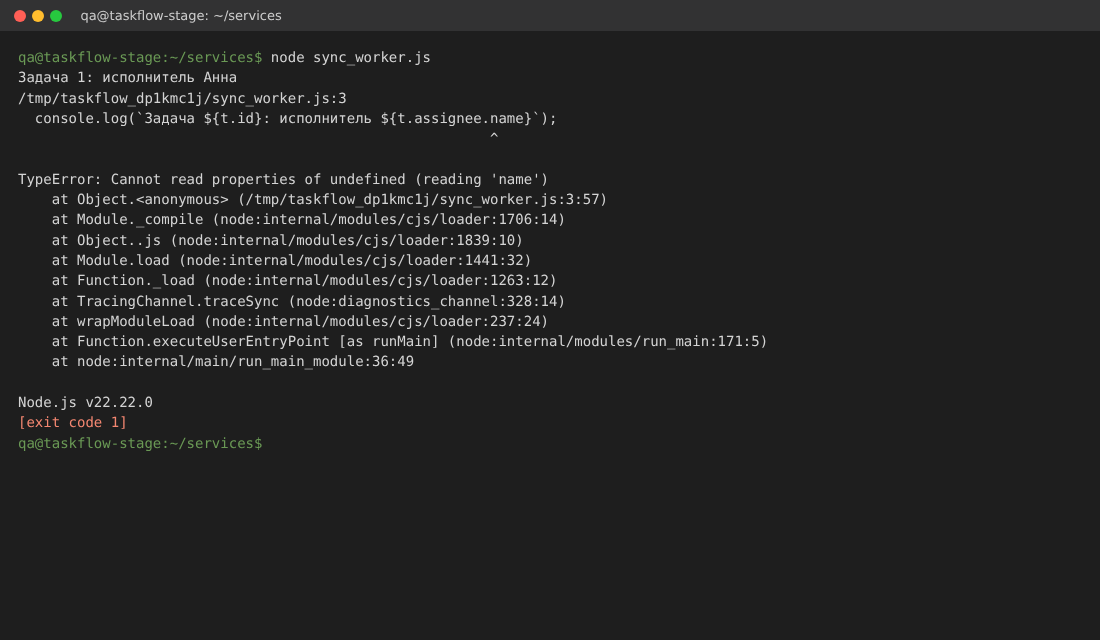ERROR_TEXT: (18, 173, 546, 187)
PII: (19, 51, 162, 66), (19, 437, 161, 451), (81, 10, 208, 23)
STACK_TRACE: (18, 92, 766, 370)
STATUS_INDICATOR: (21, 416, 125, 429)
